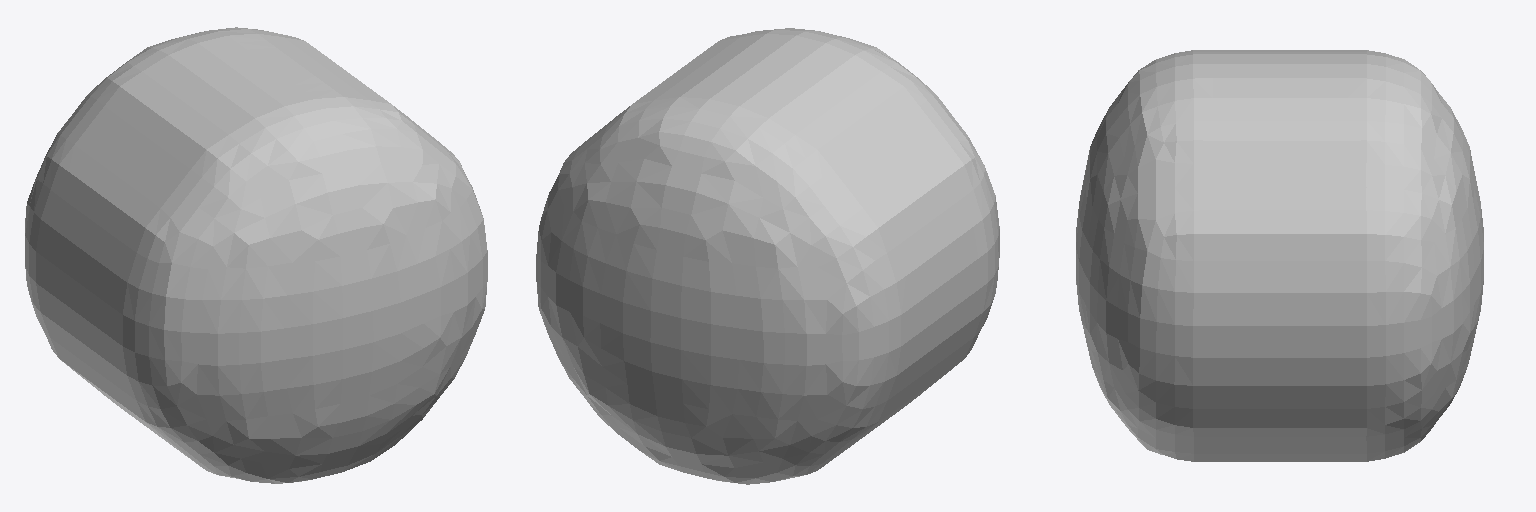
The model's file is simple_capsule.obj.
3 renders of one model, left to right at view 1: azimuth 30°, elevation 25°; view 2: azimuth 150°, elevation 25°; view 3: azimuth 270°, elevation 25°, orthographic.
Visible parts, largest first — view 1: Mball.001_Mesh; view 2: Mball.001_Mesh; view 3: Mball.001_Mesh.
Part boxes in pixels (left/top/right/bottom): Mball.001_Mesh: left=25, top=27, right=487, bottom=483; Mball.001_Mesh: left=536, top=28, right=999, bottom=484; Mball.001_Mesh: left=1076, top=50, right=1483, bottom=461.
Size of the model in its own units: 1 by 1 by 1.